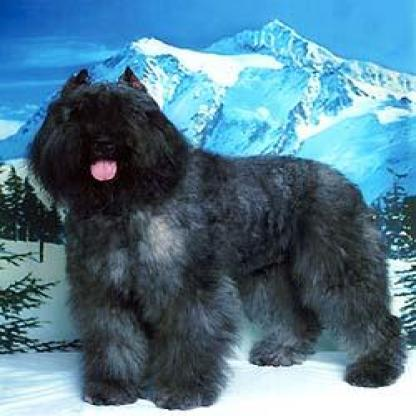Bouvier_des_Flandres: (20, 62, 409, 408)
